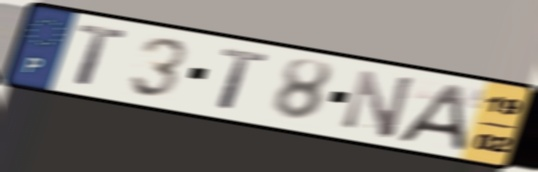3: (129, 37, 190, 99)
8: (268, 57, 334, 125)
A: (392, 81, 469, 154)
N: (340, 67, 419, 142)
T: (215, 45, 272, 113), (74, 21, 130, 89)
